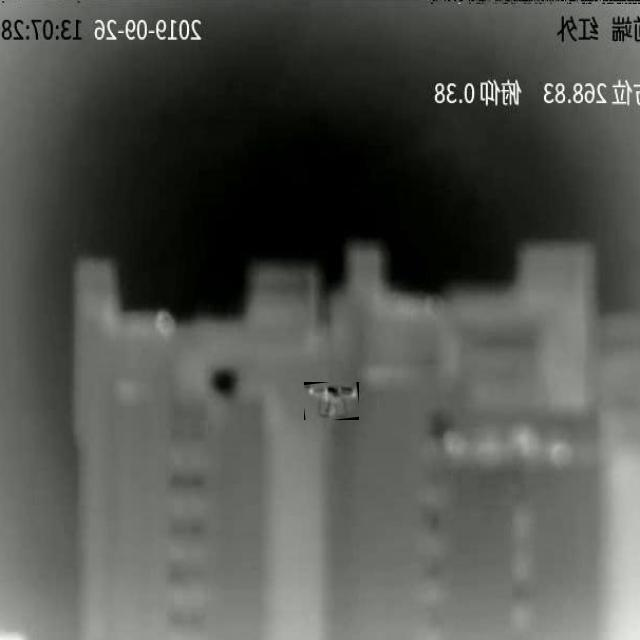drone: (304, 385, 358, 420)
